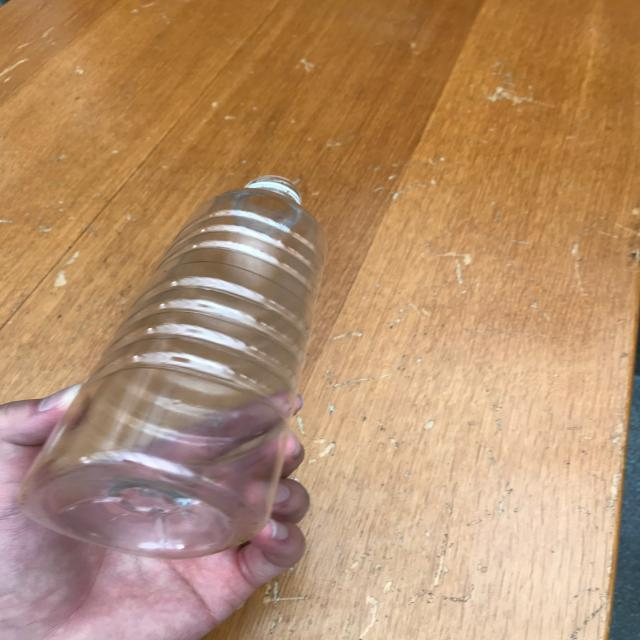plastic_bottle: (18, 175, 327, 559)
